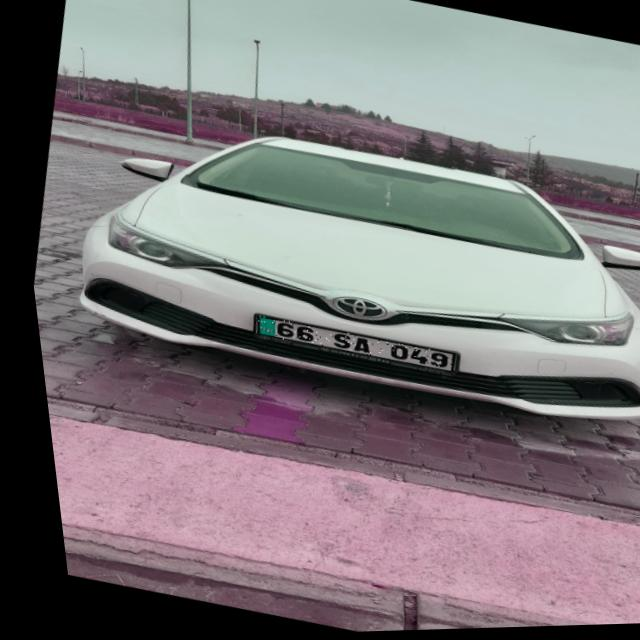license_plate: (242, 311, 448, 380)
